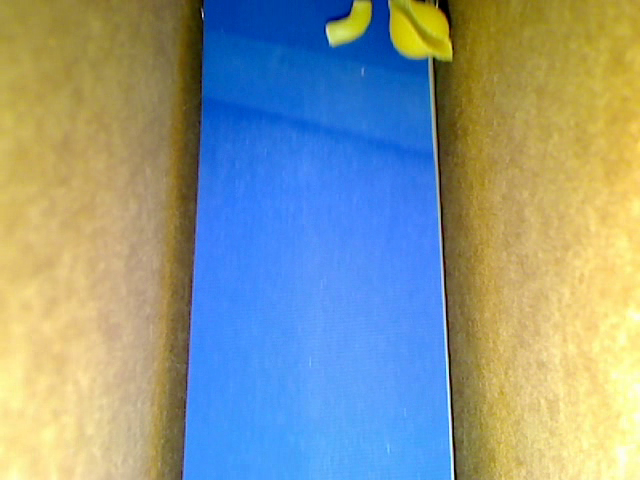elbow: (326, 1, 371, 47)
shell: (388, 1, 452, 62)
